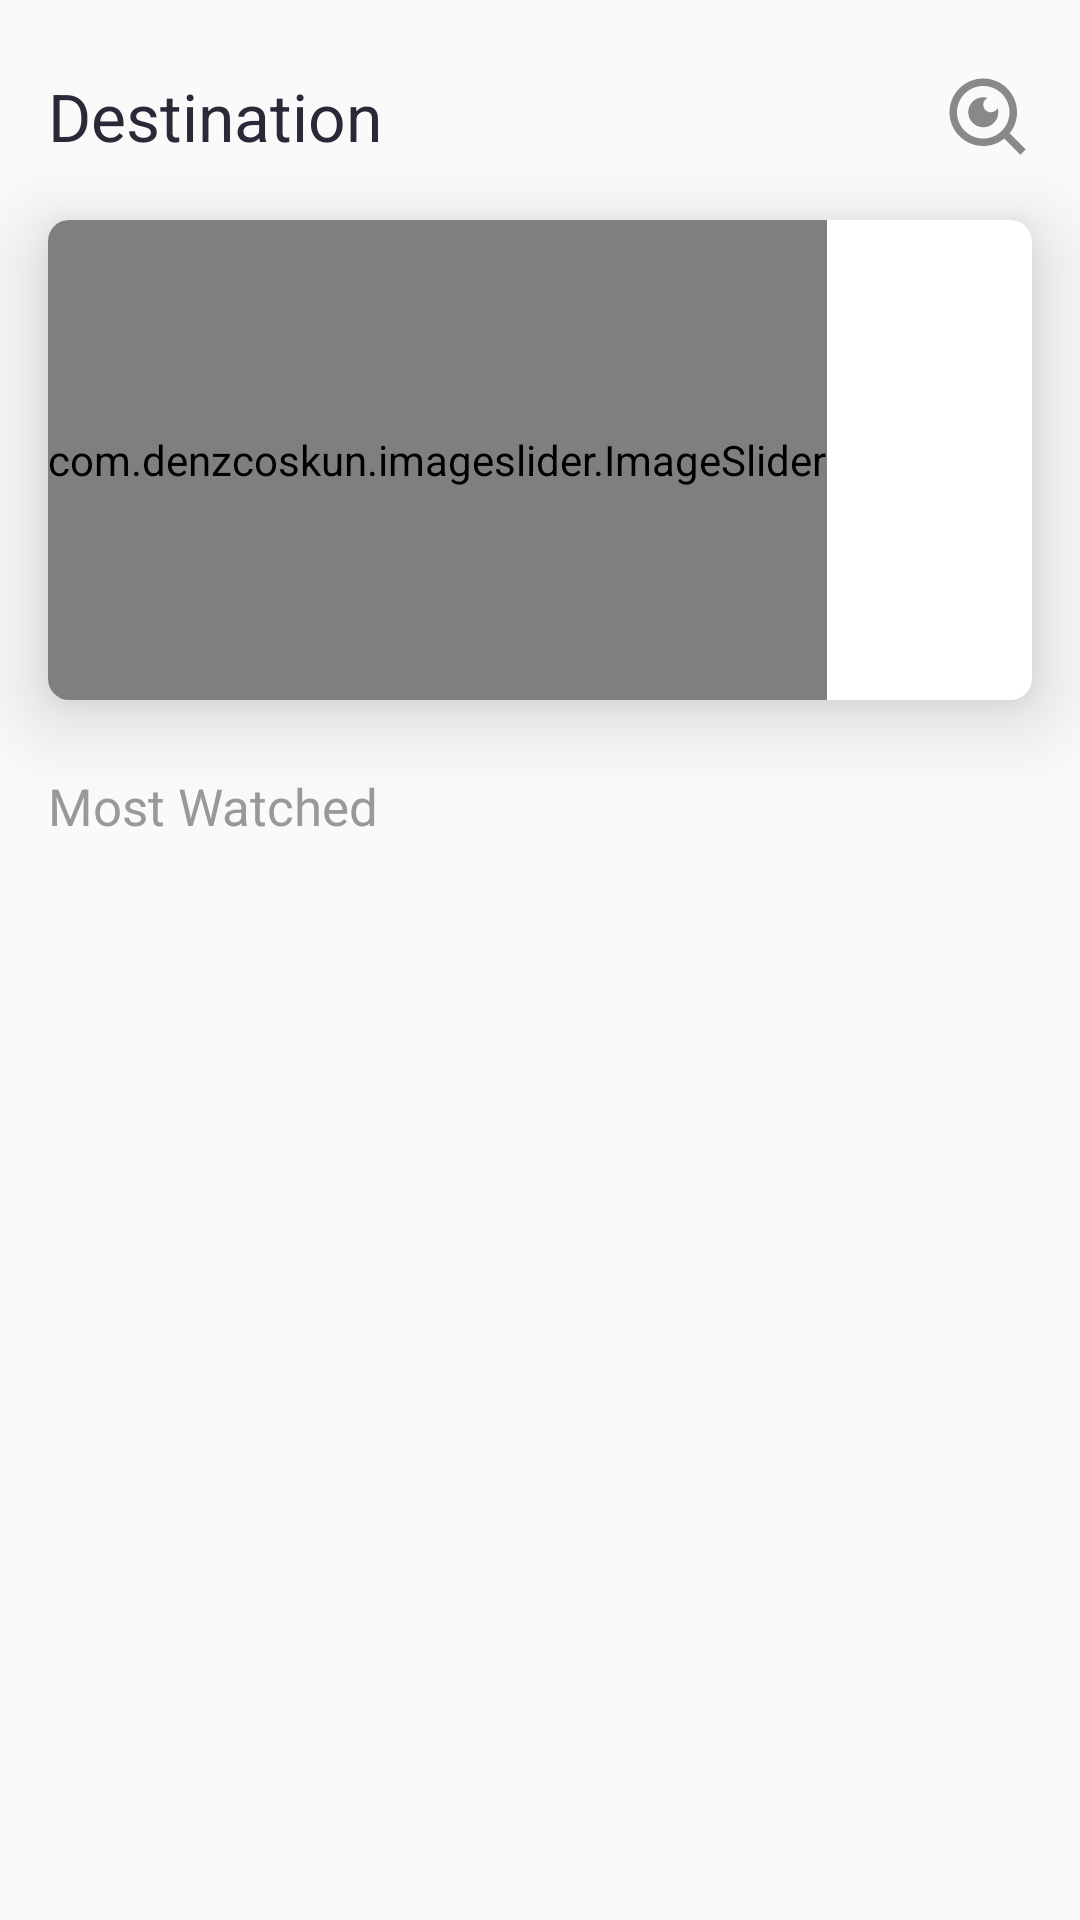

Icons on this 1080x1920 Android screen, each with the point to tap as (x=x, y=y):
search: (x=987, y=116)
